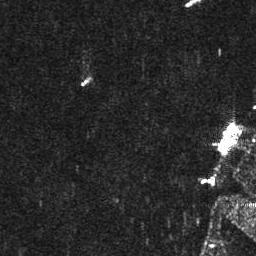ship: (79, 74, 92, 87), (183, 1, 203, 7)
